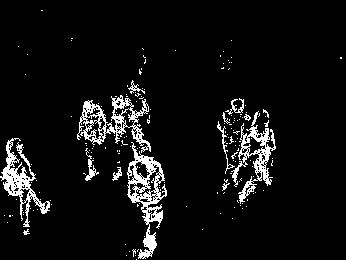person: (1, 134, 50, 236), (131, 142, 167, 254), (109, 95, 145, 183), (220, 96, 252, 191), (245, 108, 274, 203), (77, 99, 108, 183)
